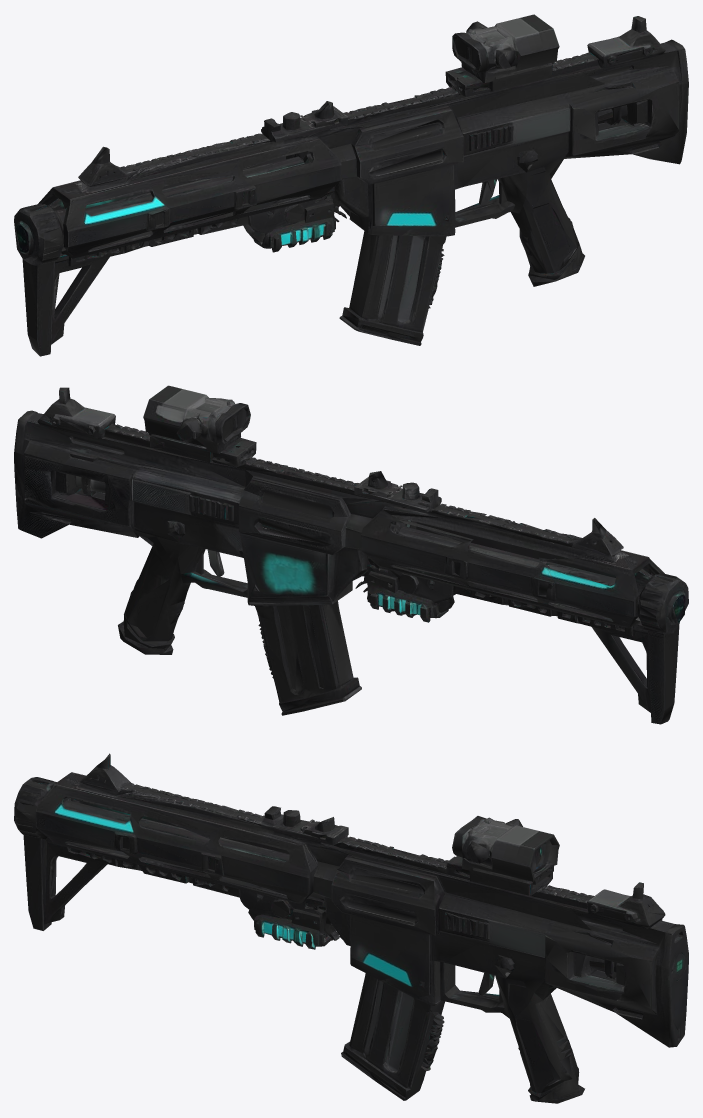
The model's file is bzMgViewmodel.24108259.glb.
3 renders of one model, top to bottom at view 1: azimuth 30°, elevation 25°; view 2: azimuth 150°, elevation 25°; view 3: azimuth 330°, elevation 25°, orthographic.
Bounding box in the file's own units: 1.9 × 0.7926 × 0.2006.
1 material, 1 textured.
